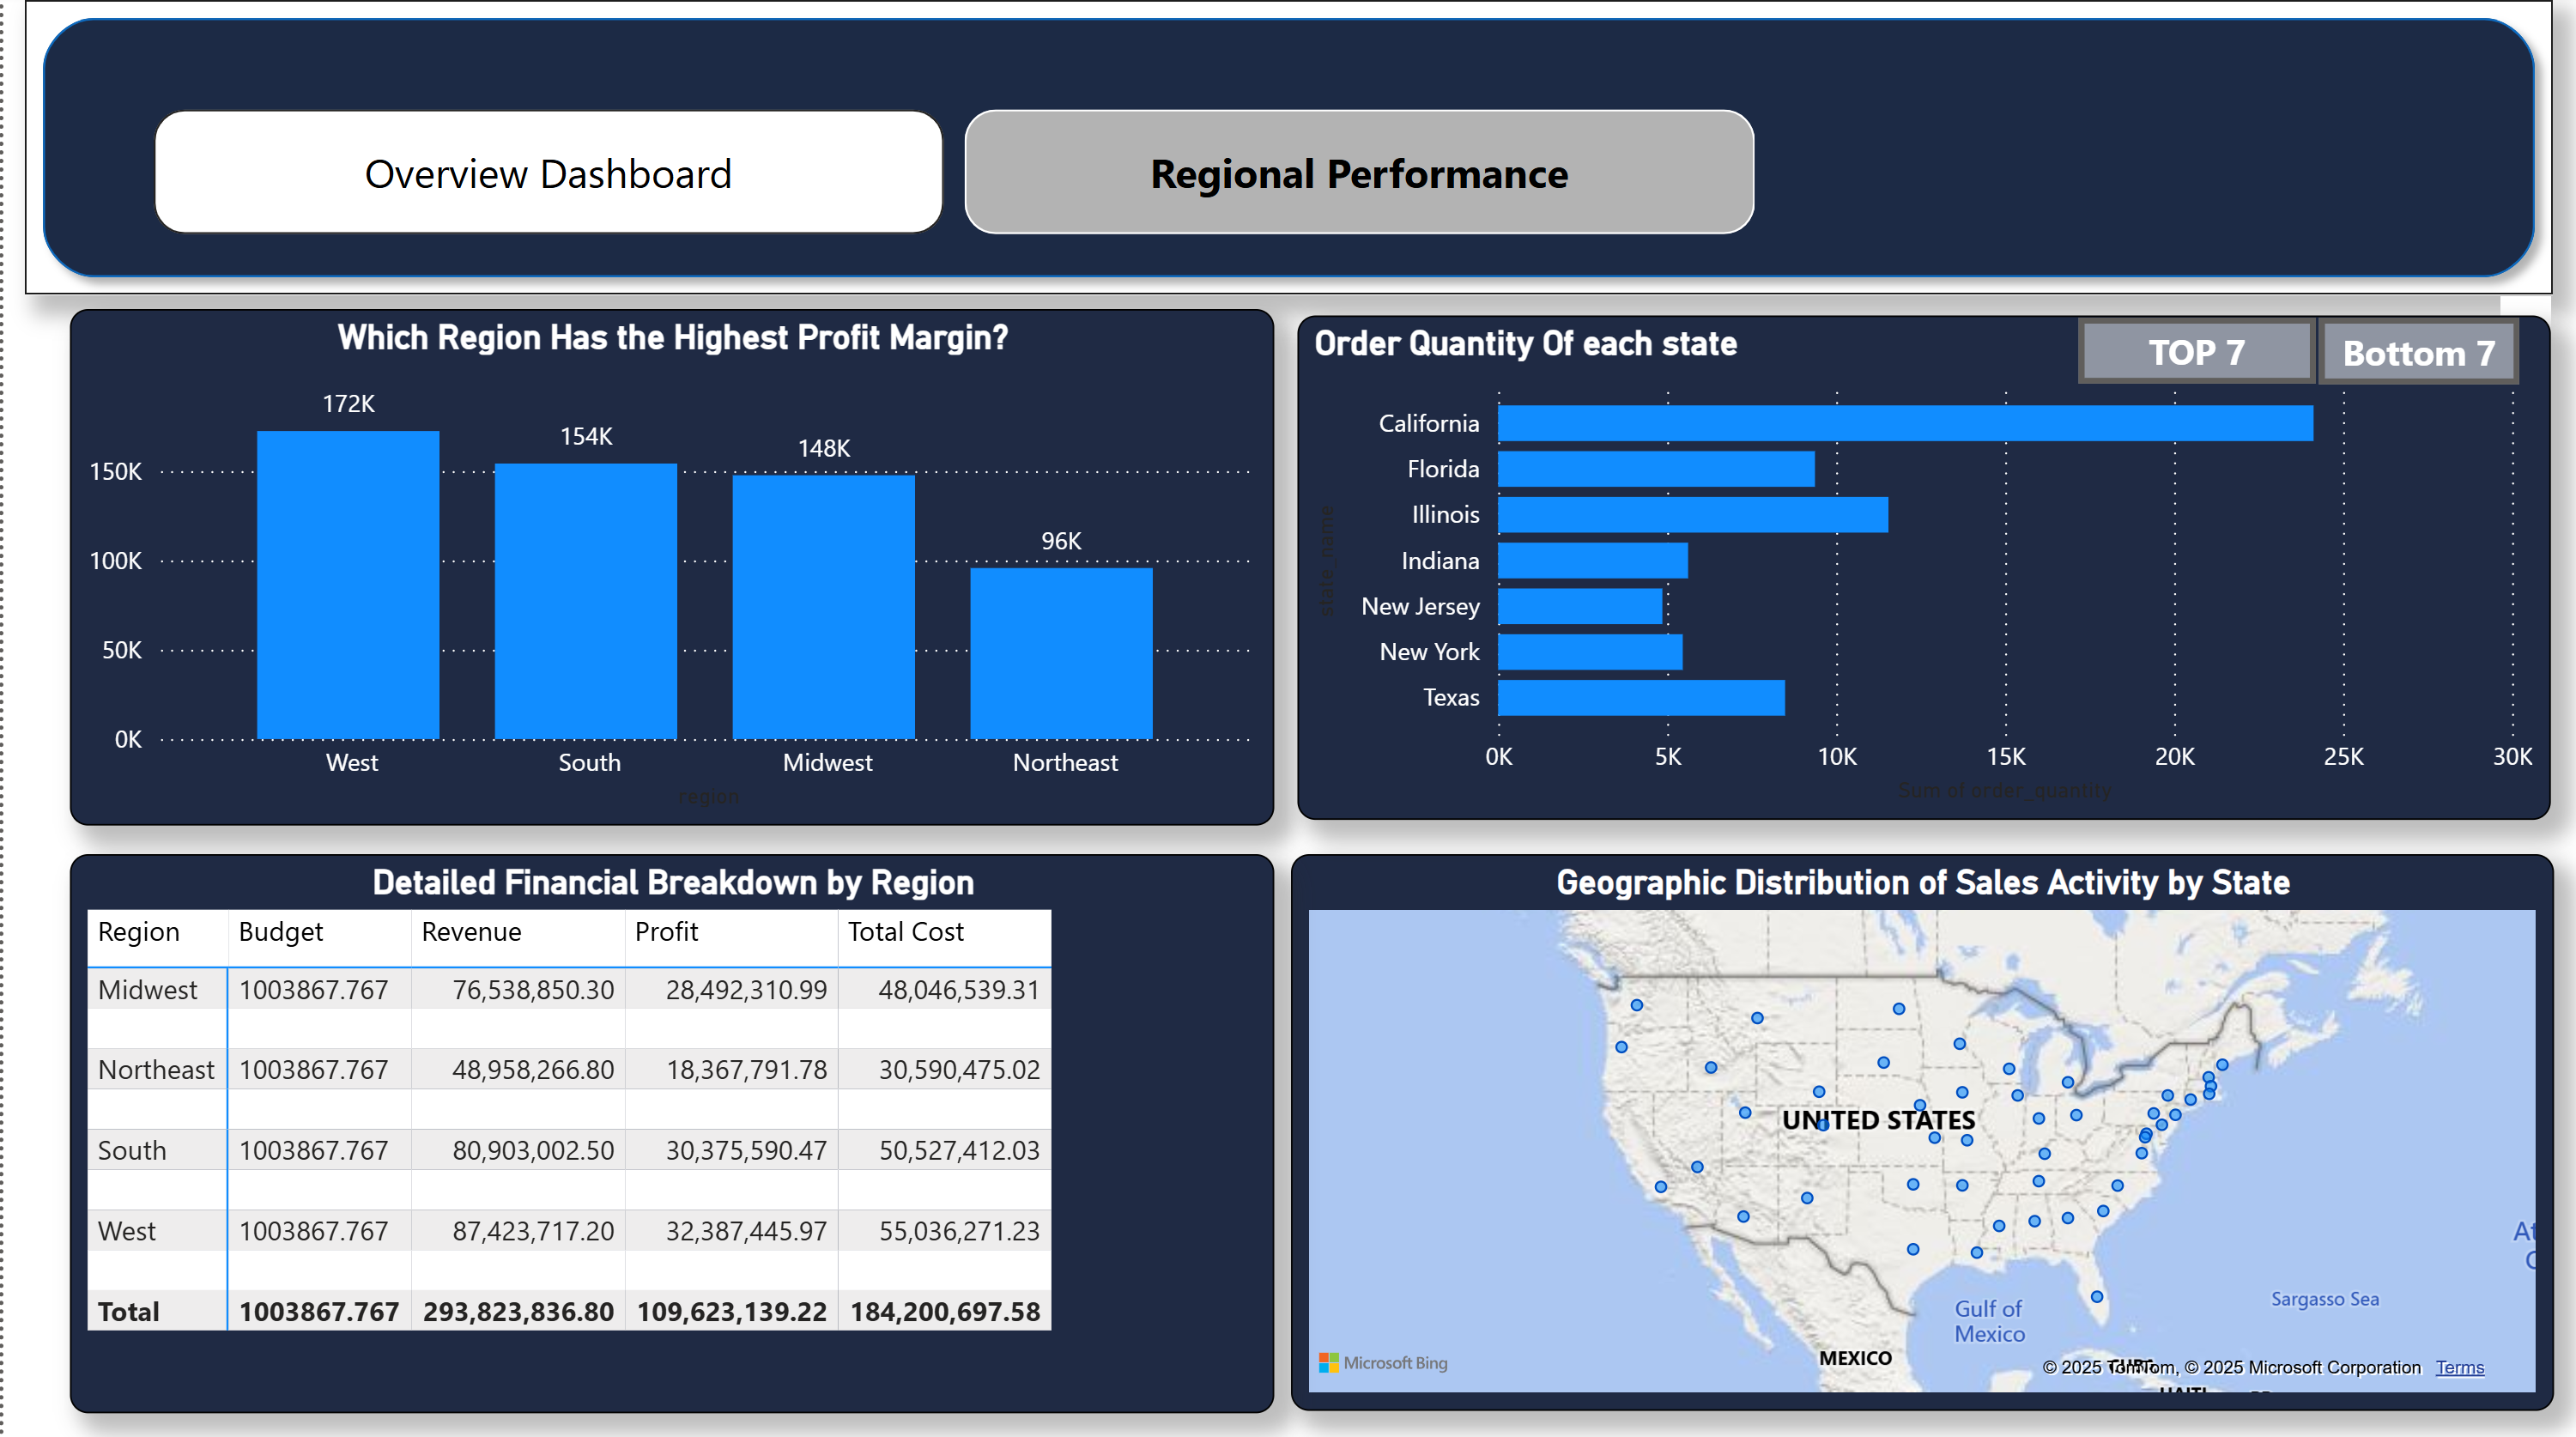

What the dashboard file says about the page in this screenshot:
{"tool":"powerbi","page":{"name":"Regional Performance","canvas":[1280,720],"ordinal":1},"visuals":[{"type":"shape","box":[11,4.1,1257,146.8],"z":0},{"type":"pageNavigator","box":[74.8,58.3,797.8,62.1],"z":1000},{"type":"map","title":"Geographic Distribution of Sales Activity by State","fields":{"Category":["final_cleaned_dataset (1).state_name"],"Y":["Avg(final_cleaned_dataset (1).lat)"],"X":["Avg(final_cleaned_dataset (1).long)"]},"box":[640.7,429.1,627.9,276.7],"z":2000},{"type":"clusteredColumnChart","title":"Which Region Has the Highest Profit Margin?","fields":{"Category":["final_cleaned_dataset (1).region"],"Y":["Sum(final_cleaned_dataset (1).profit_margin_pct)"]},"box":[32.6,158.1,598.8,257],"z":3000},{"type":"pivotTable","title":"Detailed Financial Breakdown by Region","fields":{"Rows":["final_cleaned_dataset (1).region"],"Values":["Min(final_cleaned_dataset (1).budget)","Sum(final_cleaned_dataset (1).revenue)","Sum(final_cleaned_dataset (1).profit)","Sum(final_cleaned_dataset (1).total_cost)"]},"box":[32.6,429.1,598.8,277.9],"z":5000},{"type":"clusteredBarChart","title":"Order Quantity Of each state","fields":{"Y":["Sum(final_cleaned_dataset (1).order_quantity)"],"Category":["final_cleaned_dataset (1).state_name"]},"box":[643,161.4,623.1,250.7],"z":7000},{"type":"actionButton","box":[1031.9,161.9,118,32.9],"z":8000},{"type":"actionButton","box":[1151,162,99.8,33.3],"z":8500}]}

Visuals, with their boxes in screenshot pixels (x1, y1, x2, y2), scaled from the page's 1280x720 canvas onto the 2576x1437 screenshot:
shape: (x1=22, y1=9, x2=2552, y2=301)
pageNavigator: (x1=150, y1=117, x2=1756, y2=240)
"Geographic Distribution of Sales Activity by State" map: (x1=1289, y1=857, x2=2553, y2=1409)
"Which Region Has the Highest Profit Margin?" clusteredColumnChart: (x1=65, y1=316, x2=1270, y2=828)
"Detailed Financial Breakdown by Region" pivotTable: (x1=65, y1=857, x2=1270, y2=1411)
"Order Quantity Of each state" clusteredBarChart: (x1=1294, y1=322, x2=2548, y2=822)
actionButton: (x1=2076, y1=323, x2=2314, y2=389)
actionButton: (x1=2317, y1=324, x2=2518, y2=390)
